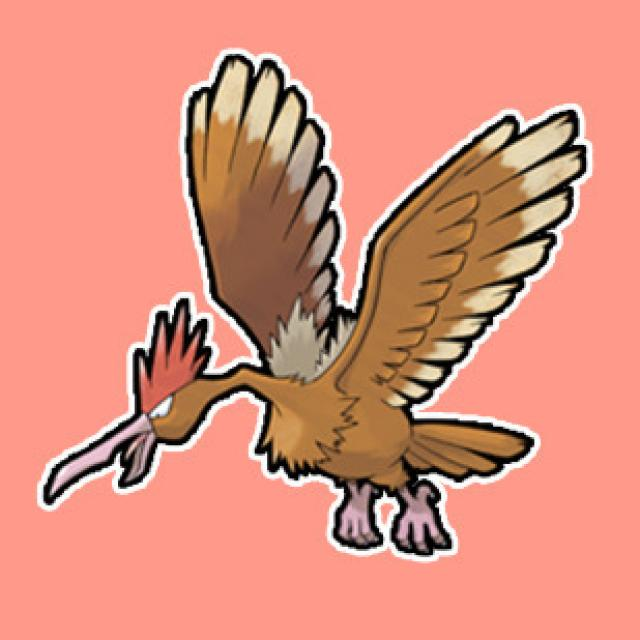Fearow: (69, 214, 519, 556)
